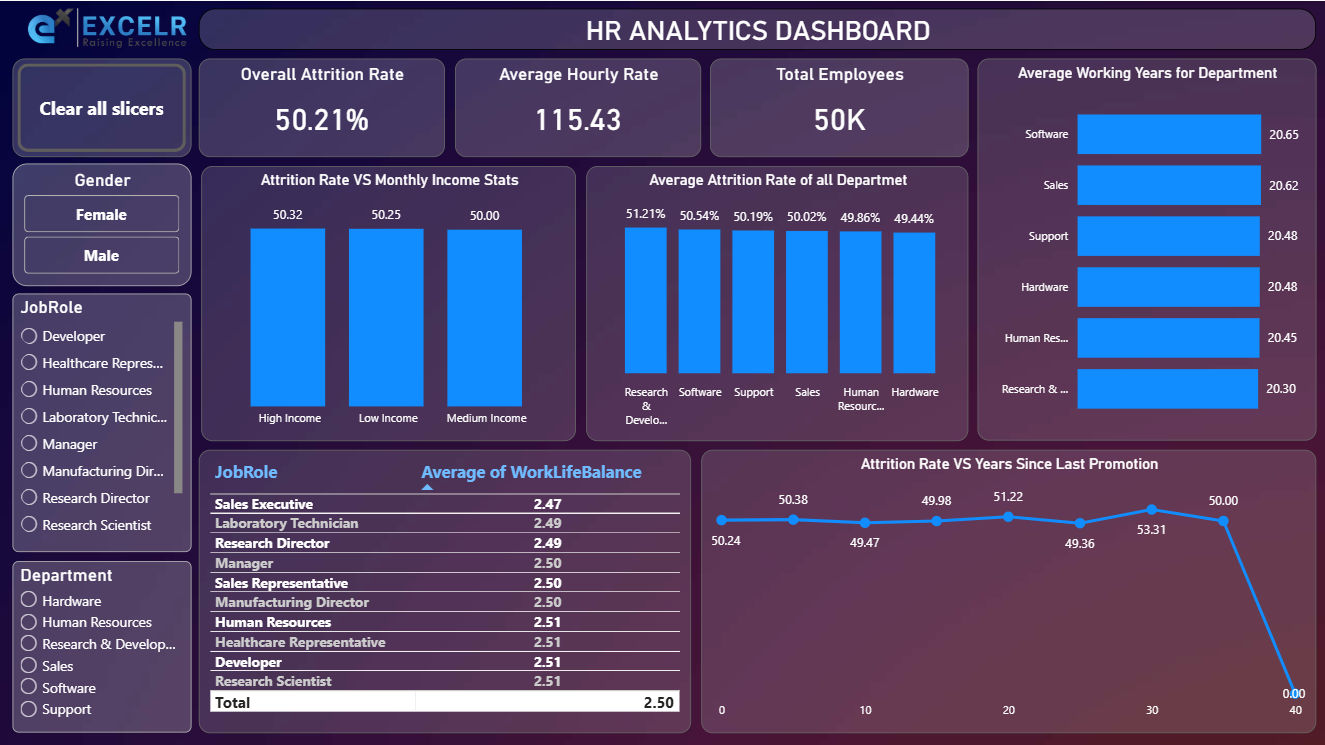

This screenshot's page, from the dashboard's own definition file:
{"tool":"powerbi","page":{"name":"Final Dashboard","canvas":[1280,720],"ordinal":0},"visuals":[{"type":"columnChart","title":"Average Attrition Rate of all Departmet","fields":{"Category":["HR1-.Department"],"Y":["HR1-.Average Attrition %"]},"box":[565.8,159.3,369.2,265.4],"z":0},{"type":"textbox","title":"HR ANALYTICS DASHBOARD","box":[191.8,7.2,1078.6,39.8],"z":1000},{"type":"card","title":"Overall Attrition Rate","fields":{"Values":["Avg(HR1-.Attrition N)"]},"box":[191.8,55.5,237.7,95.3],"z":2000},{"type":"card","title":"Average Hourly Rate","fields":{"Values":["Avg(HR1-.HourlyRate)"]},"box":[439.1,55.5,237.7,95.3],"z":3000},{"type":"listSlicer","fields":{"Values":["HR1-.JobRole"]},"box":[12.1,282.3,172.5,249.7],"z":4000},{"type":"advancedSlicerVisual","fields":{"Values":["HR1-.Gender"]},"box":[12.1,156.8,172.5,118.2],"z":5000},{"type":"barChart","title":"Average Working Years for Department","fields":{"Category":["HR1-.Department"],"Y":["Avg(HR2.TotalWorkingYears)"]},"box":[943.4,55.5,326.9,369.2],"z":6000},{"type":"clusteredColumnChart","title":"Attrition Rate VS Monthly Income Stats","fields":{"Category":["HR2.Income Status"],"Y":["HR1-.Attrition Rate Percentage"]},"box":[194.2,159.3,361.9,265.4],"z":7000},{"type":"tableEx","fields":{"Values":["HR1-.JobRole","Avg(HR2.WorkLifeBalance)"]},"box":[191.8,433.1,475.3,273.9],"z":8000},{"type":"lineChart","title":"Attrition Rate VS Years Since Last Promotion","fields":{"Y":["HR1-.Attrition Rate Percentage"],"Category":["HR2.YearsSinceLastPromotion (bins)"]},"box":[676.8,433.1,593.6,273.9],"z":9000},{"type":"image","box":[12.1,6,182.2,41],"z":10000},{"type":"card","title":"Total Employees","fields":{"Values":["CountNonNull(HR2.Employee ID)"]},"box":[685.3,55.5,249.7,95.3],"z":11000},{"type":"listSlicer","fields":{"Values":["HR1-.Department"]},"box":[12.1,540.5,172.5,165.3],"z":12000},{"type":"actionButton","box":[12.1,55.5,172.5,95.3],"z":13000}]}

Visuals, with their boxes in screenshot pixels (x1, y1, x2, y2), scaled from the page's 1280x720 canvas onto the 1325x745 screenshot:
"Average Attrition Rate of all Departmet" columnChart: select_region(586, 165, 968, 439)
"HR ANALYTICS DASHBOARD" textbox: select_region(199, 7, 1315, 49)
"Overall Attrition Rate" card: select_region(199, 57, 445, 156)
"Average Hourly Rate" card: select_region(455, 57, 701, 156)
listSlicer - HR1-.JobRole: select_region(13, 292, 191, 550)
advancedSlicerVisual - HR1-.Gender: select_region(13, 162, 191, 285)
"Average Working Years for Department" barChart: select_region(977, 57, 1315, 439)
"Attrition Rate VS Monthly Income Stats" clusteredColumnChart: select_region(201, 165, 576, 439)
tableEx - HR1-.JobRole x Avg(HR2.WorkLifeBalance): select_region(199, 448, 691, 732)
"Attrition Rate VS Years Since Last Promotion" lineChart: select_region(701, 448, 1315, 732)
image: select_region(13, 6, 201, 49)
"Total Employees" card: select_region(709, 57, 968, 156)
listSlicer - HR1-.Department: select_region(13, 559, 191, 730)
actionButton: select_region(13, 57, 191, 156)
